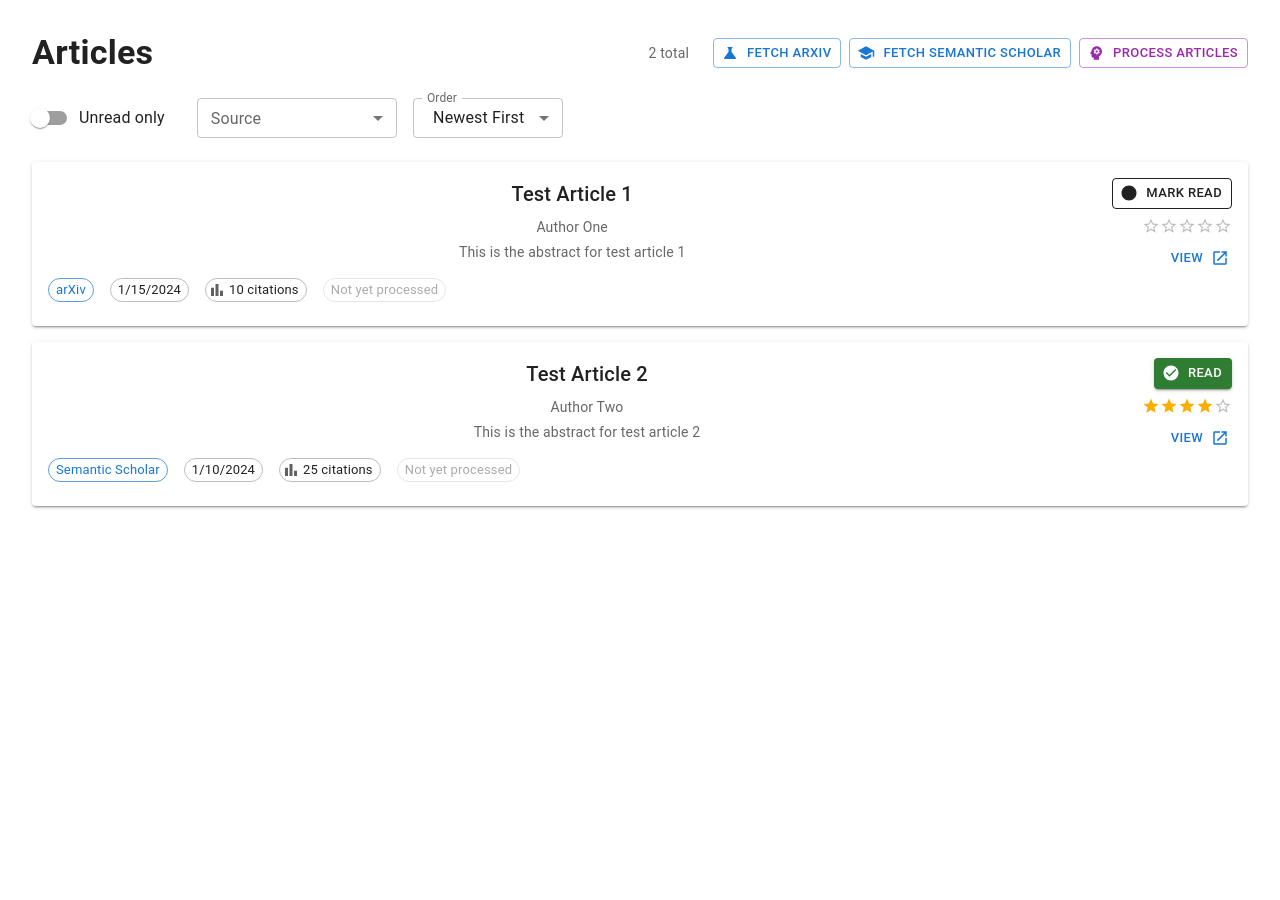
Articles › opens Semantic Scholar fetch dialog
Click the button "Fetch Semantic Scholar" at point(960, 53), box [849,38,1071,68]
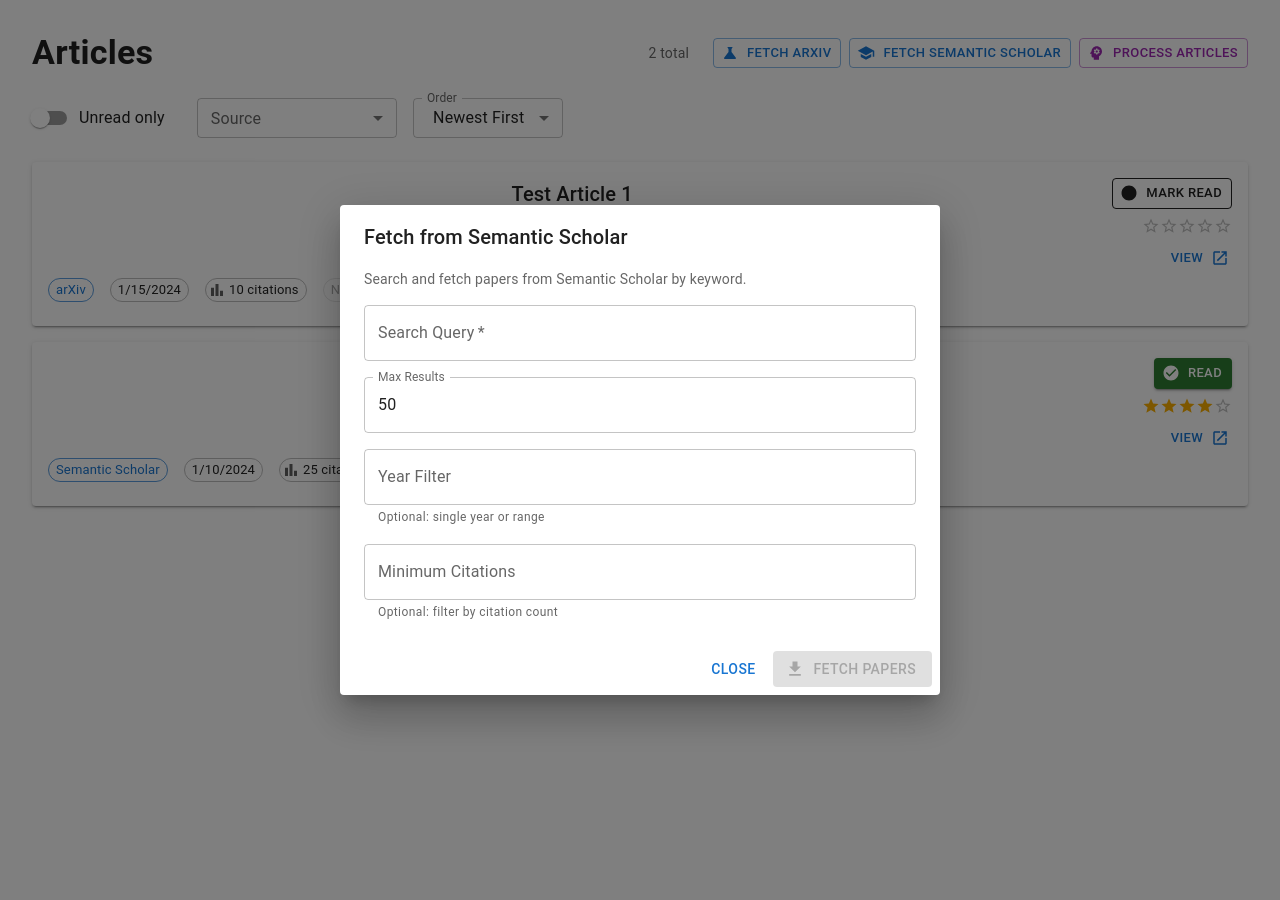
Check: the heading "Fetch from Semantic Scholar" is shown, box [364,225,628,249]
